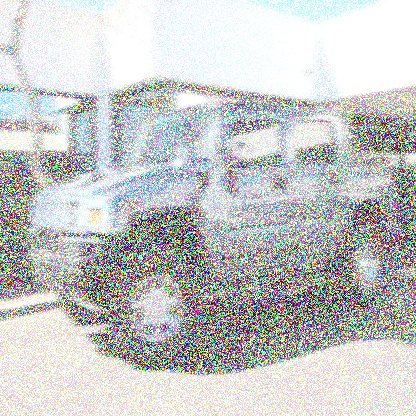Vehicle: (28, 98, 402, 371)
